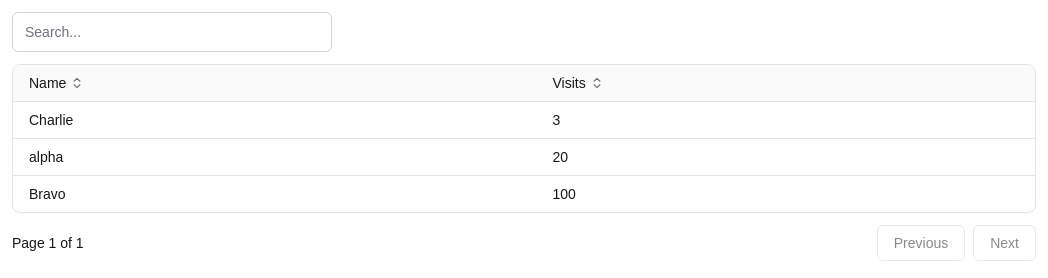
Test: DataTable › sorts when a header is clicked and reports it for screen readers
The width and height of the screenshot is (1048, 278).
# Number columns sort high to low on the first click.
Click the button "Visits": (578, 83) [552,73,604,93]
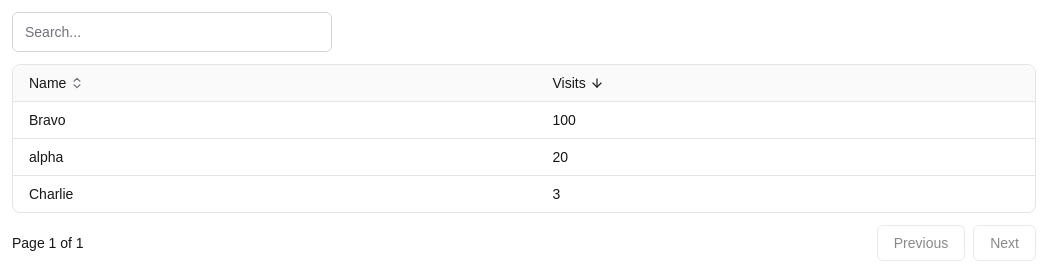
Expected: the column heading "Visits" has attribute aria-sort="descending", [536,65,1035,102]
Click the button "Visits": (578, 83) [552,73,604,93]
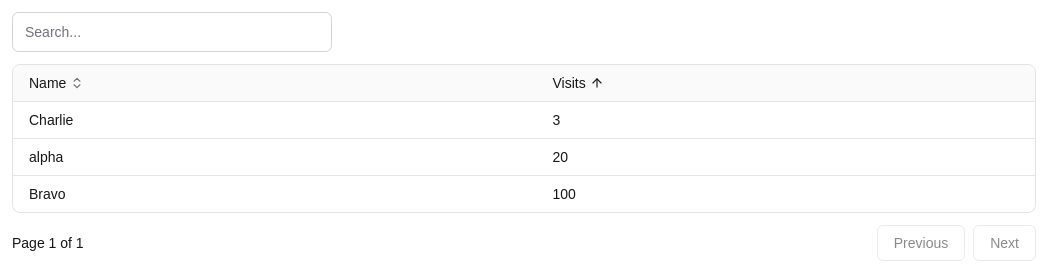
Expected: the column heading "Visits" has attribute aria-sort="ascending", [536,65,1035,102]
